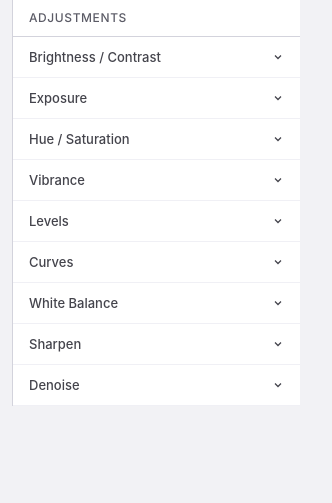
AdjustmentsPanel › clicking an open section collapses it
Click the button "Brightness / Contrast". click: (156, 57)
box: [13,37,300,77]
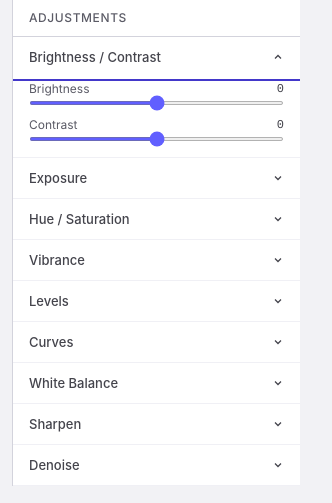
Click the button "Brightness / Contrast". click: (156, 57)
box: [13,37,300,77]
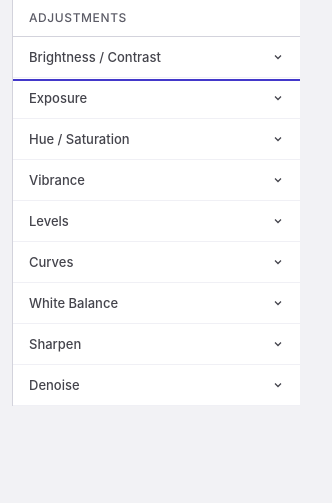
Result: the slider is gone
